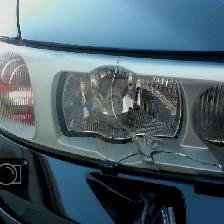head_lamp: (107, 81, 194, 179)
